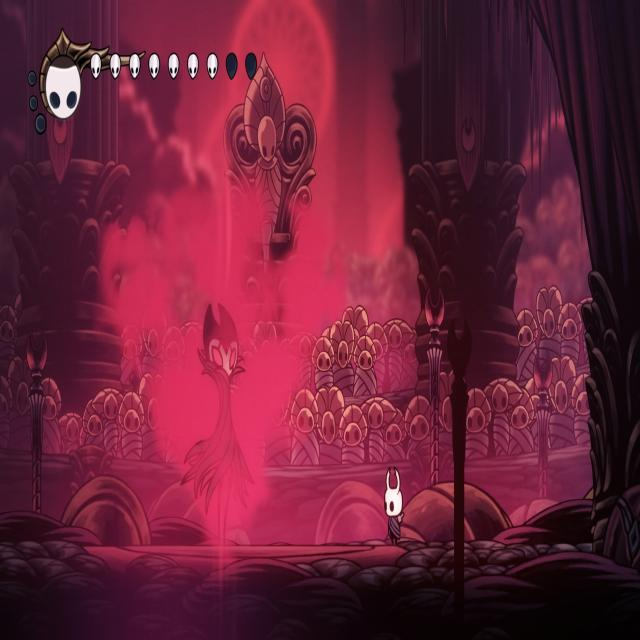Grimm: (178, 282, 262, 541)
Player: (380, 460, 407, 546)
